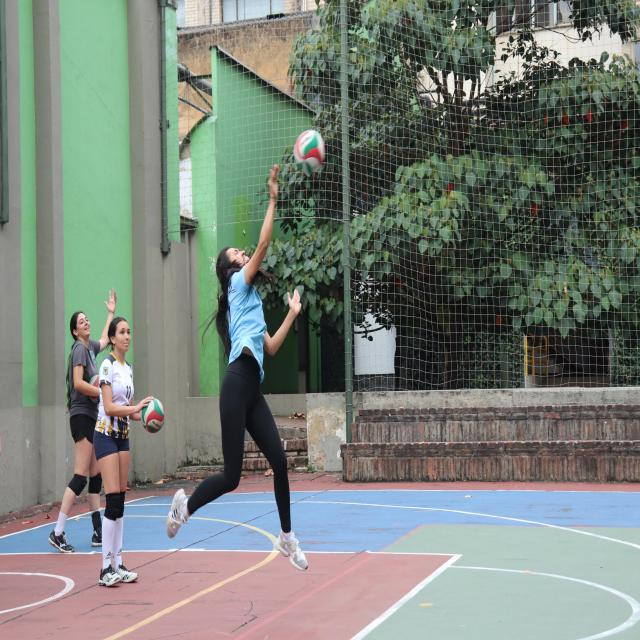volleyball: (294, 130, 326, 176), (142, 398, 164, 435)
